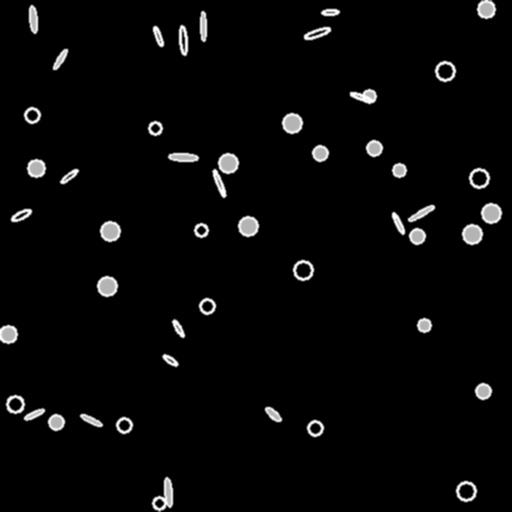pseudomonas: (407, 204, 435, 222), (211, 169, 227, 197), (304, 25, 330, 41), (10, 207, 32, 223), (52, 48, 68, 70), (264, 405, 282, 423), (391, 212, 405, 234), (80, 413, 102, 427), (349, 91, 373, 103), (60, 168, 78, 184), (163, 478, 173, 506), (152, 25, 164, 47), (171, 319, 185, 337), (168, 153, 198, 161), (24, 408, 44, 420), (162, 353, 178, 367), (179, 26, 187, 54), (29, 6, 37, 32), (200, 12, 206, 40), (321, 9, 339, 15)
synechocystis: (463, 225, 481, 243), (436, 62, 454, 80), (239, 217, 257, 235), (457, 482, 475, 500), (482, 204, 500, 222), (470, 169, 488, 187), (283, 114, 301, 132), (101, 222, 119, 240), (98, 277, 116, 295), (219, 154, 237, 172), (294, 261, 312, 279), (7, 396, 23, 412), (0, 326, 16, 342), (478, 1, 494, 17), (28, 160, 44, 176), (117, 418, 131, 432), (313, 146, 327, 160), (49, 415, 63, 429), (308, 421, 322, 435), (25, 108, 39, 122), (200, 299, 214, 313), (476, 384, 490, 398), (410, 229, 424, 243), (367, 141, 381, 155), (195, 224, 207, 236), (418, 319, 430, 331), (153, 497, 165, 509), (393, 164, 405, 176), (149, 122, 161, 134), (363, 90, 375, 102)
